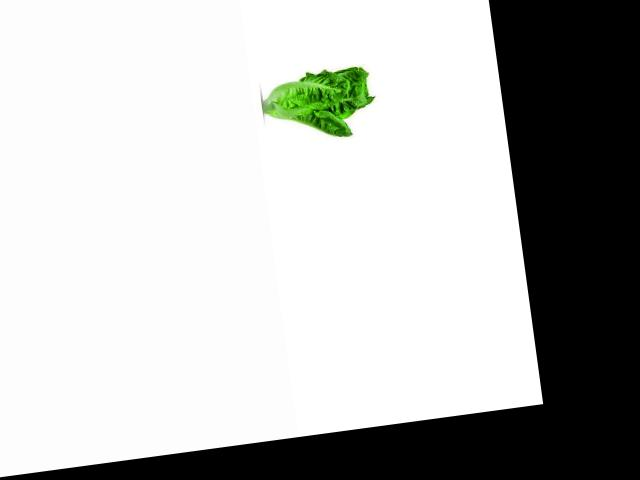lettuce: (262, 59, 380, 147)
